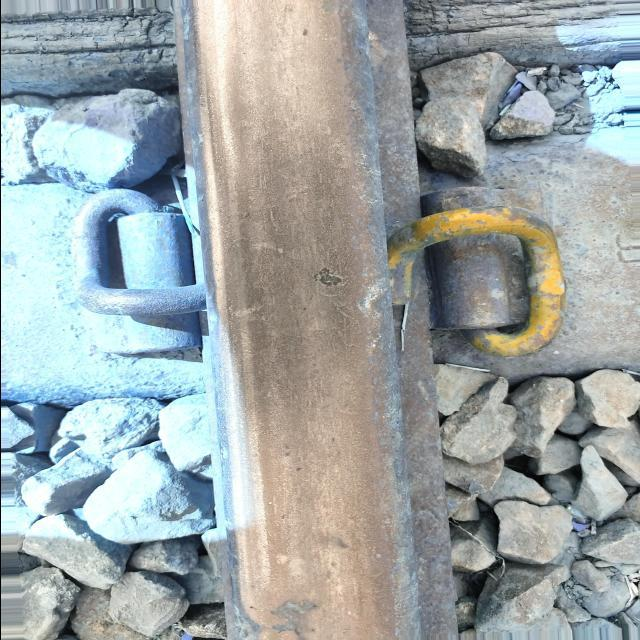squats_high: (271, 599, 323, 640), (308, 268, 347, 286), (299, 29, 312, 39)
